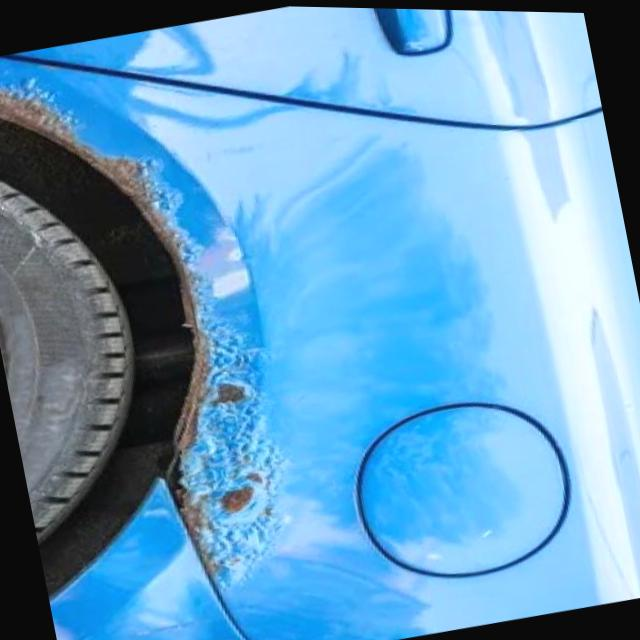Rust: (0, 73, 294, 593)
